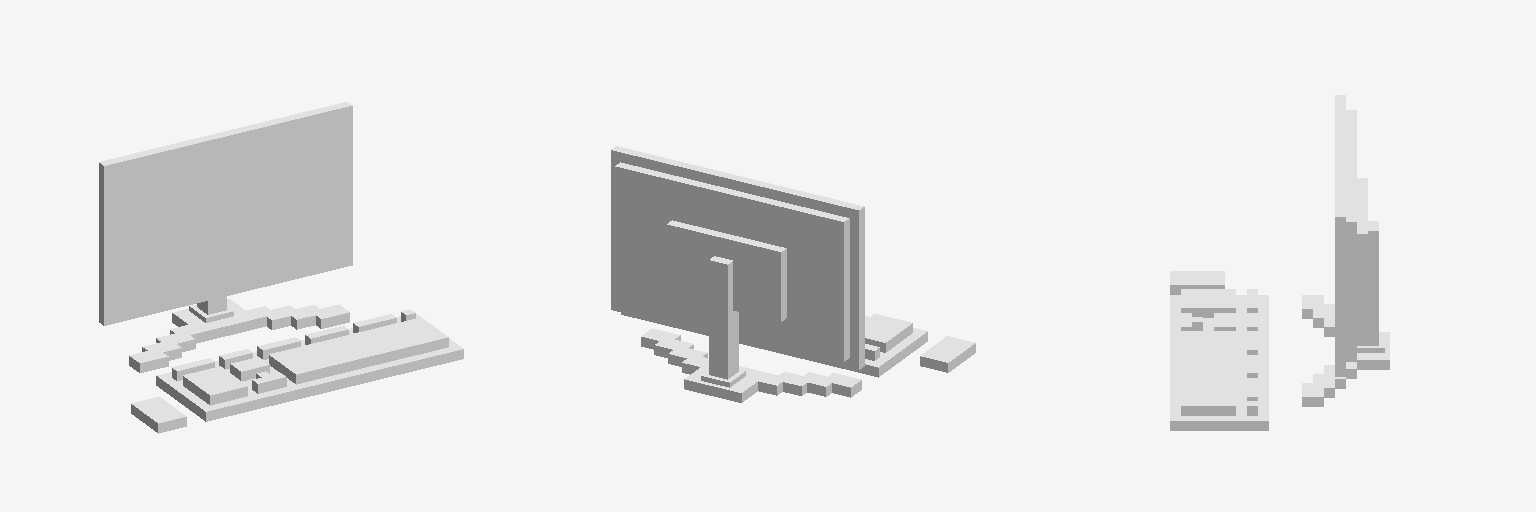
Rendered from computer.obj.
The picture shows the model from 3 angles: view 1: azimuth 30°, elevation 25°; view 2: azimuth 150°, elevation 25°; view 3: azimuth 270°, elevation 25°; orthographic projection.
Visible parts, largest first — view 1: object 1; view 2: object 1; view 3: object 1.
Boxes of the visible parts, box(x1,y1,x2,y2) form: object 1: box(99, 102, 463, 433); object 1: box(611, 146, 975, 402); object 1: box(1170, 95, 1389, 430).
Size of the model in its own units: 6.4 by 4 by 4.